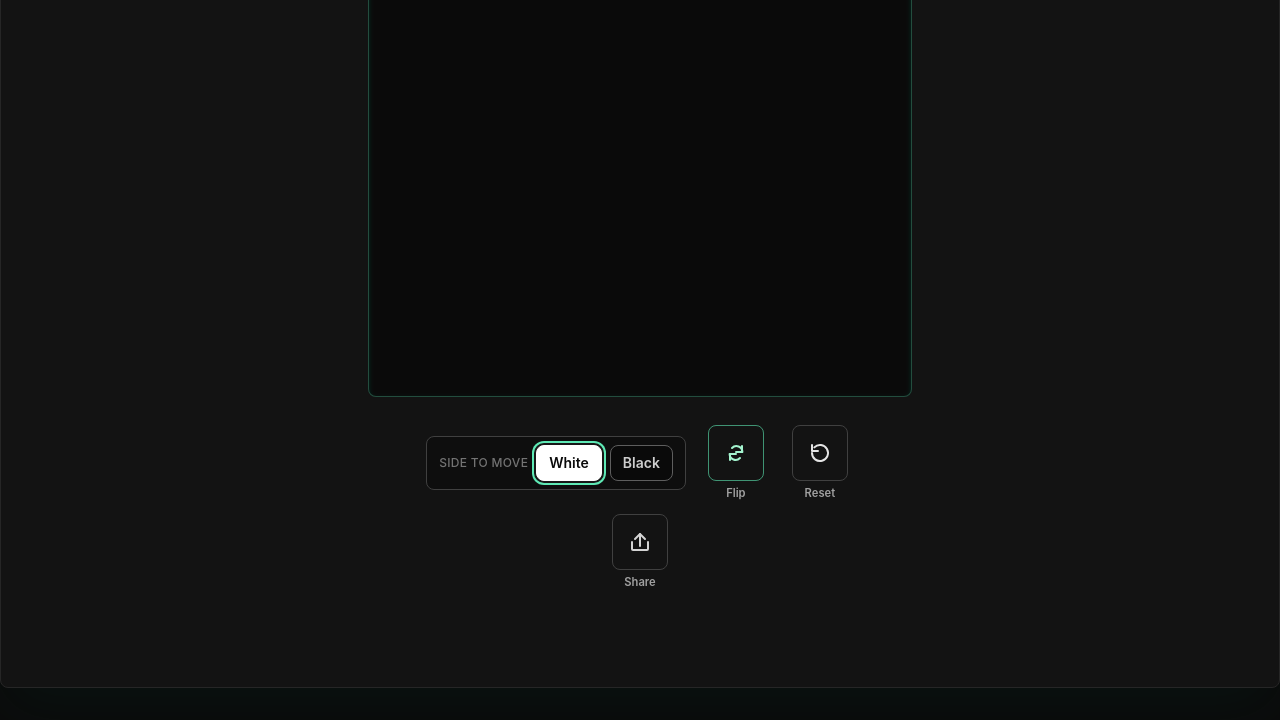
Scenario: App › creates a share link for the current fallback FEN outside edit mode
(page scrolled)
Click the button named "Share" at [640, 542], box left=612, top=514, right=668, bottom=570
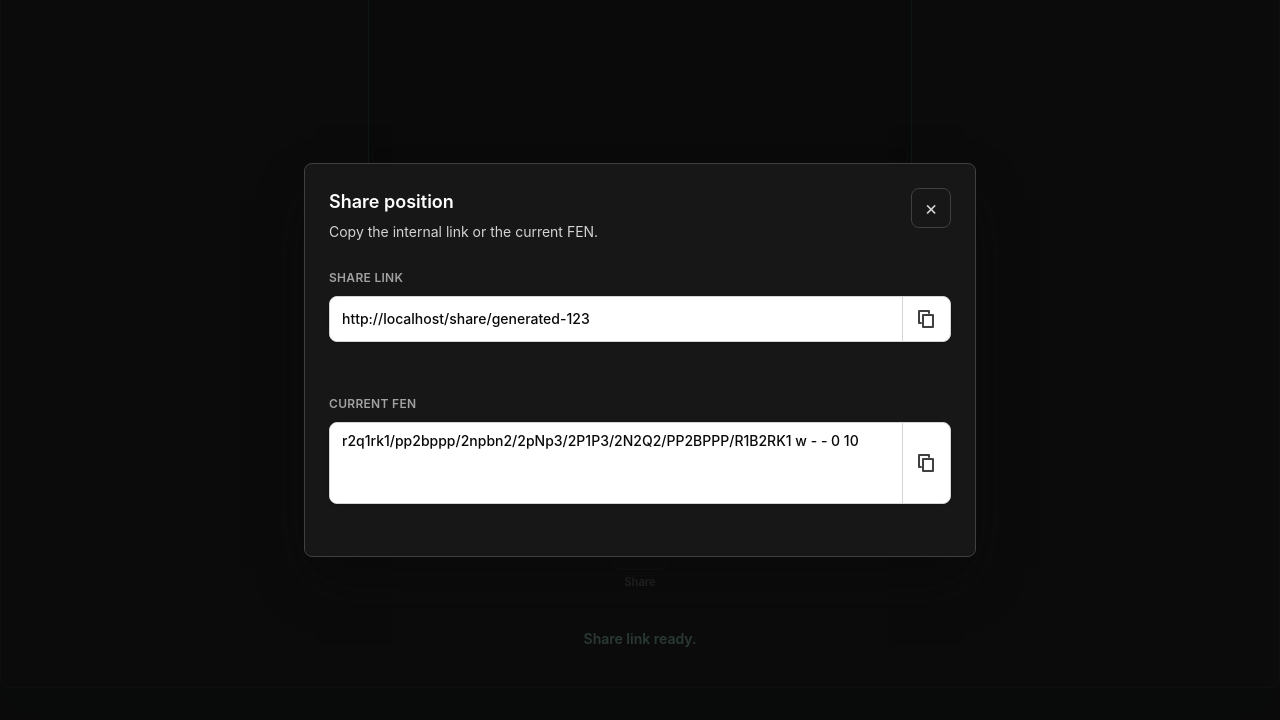
Check: the dialog "Share position" is shown
Check: the text "Share link ready." is shown, box left=584, top=629, right=696, bottom=649
Check: the text box named "Current FEN" holds "r2q1rk1/pp2bppp/2npbn2/2pNp3/2P1P3/2N2Q2/PP2BPPP/R1B2RK1 w - - 0 10", box left=330, top=423, right=902, bottom=503
Click the button named "Copy share link" at [926, 319], box left=902, top=297, right=950, bottom=341
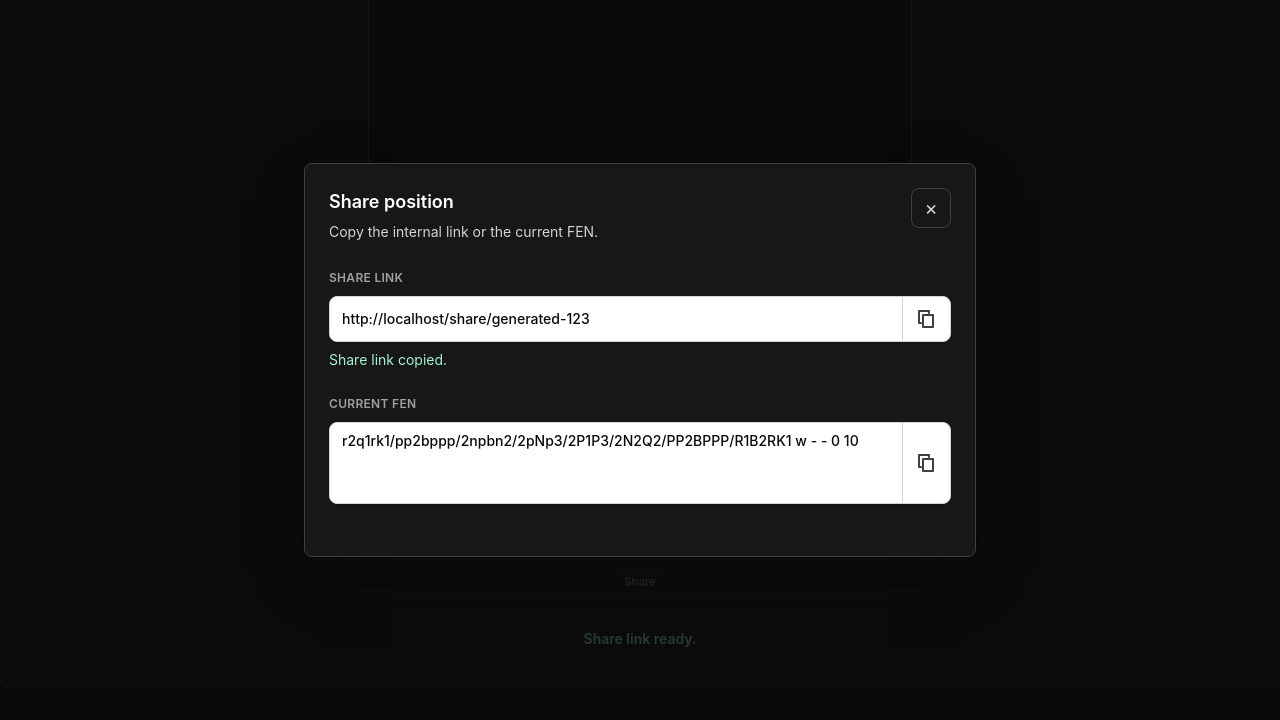
Check: the text "Share link copied." is shown, box left=329, top=351, right=447, bottom=368
Click the button named "Copy current FEN" at [926, 463], box left=902, top=423, right=950, bottom=503
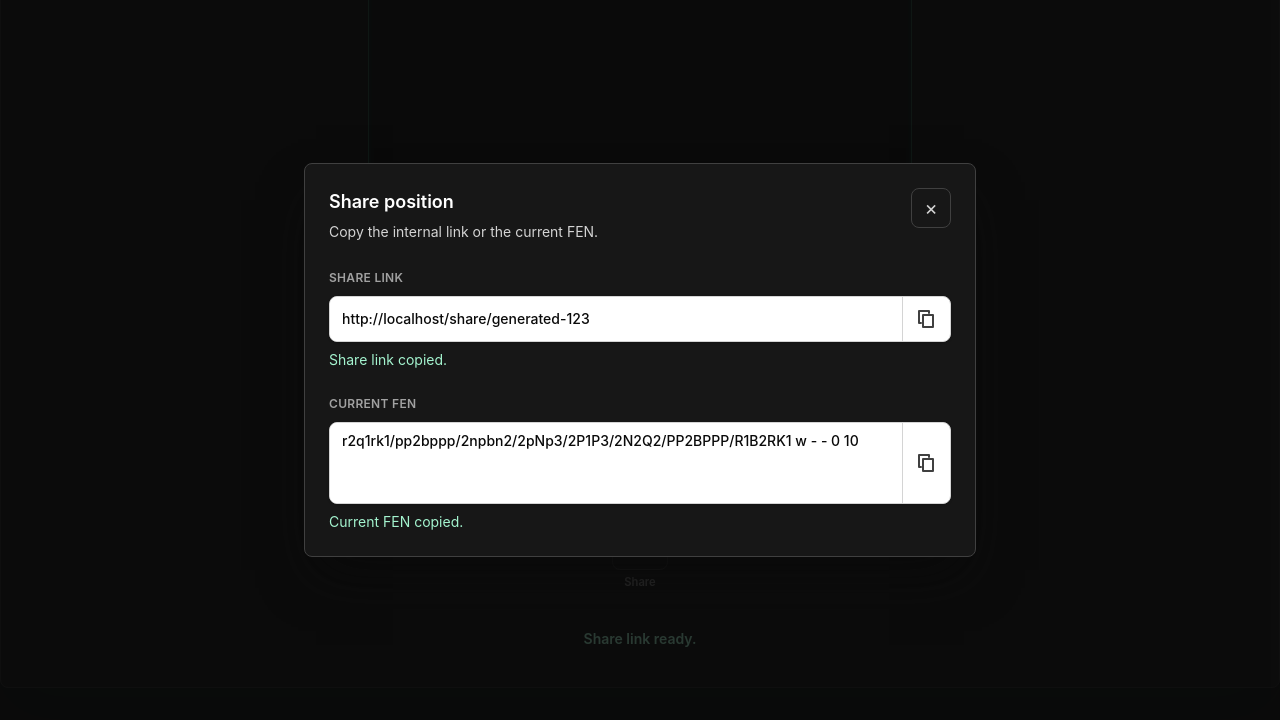
Check: the text "Current FEN copied." is shown, box left=329, top=513, right=463, bottom=530
